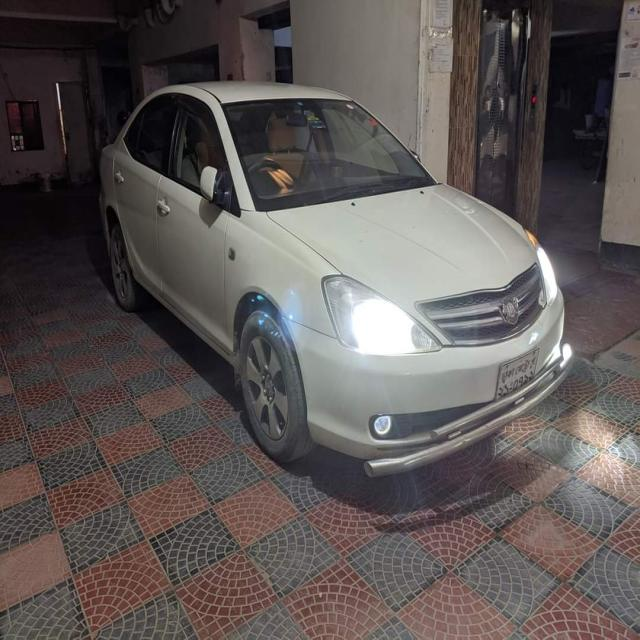white: (84, 66, 567, 458)
